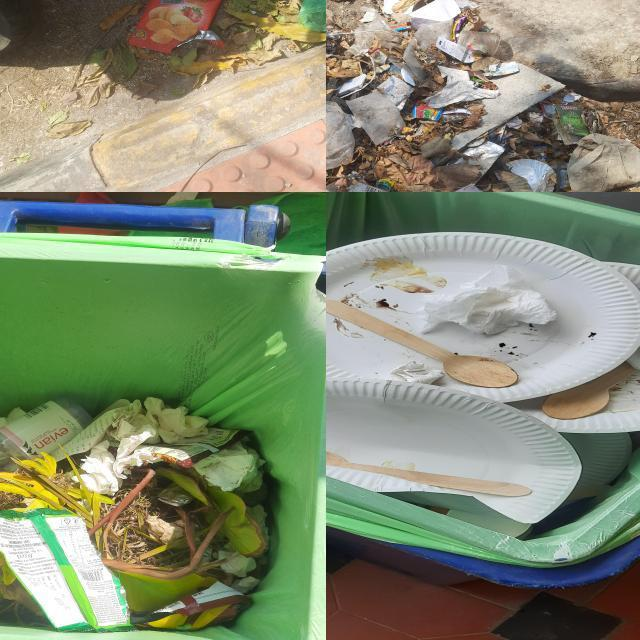Background: (0, 0, 326, 172)
Cig_pack: (339, 74, 366, 96)
Disposable: (326, 232, 640, 402), (326, 378, 580, 524), (510, 371, 640, 433), (457, 30, 501, 56)
Garbage: (326, 232, 640, 537), (0, 397, 269, 632), (326, 0, 640, 192)
Metal: (157, 483, 193, 506)
Plastic: (376, 179, 394, 191)
Plastic_Bag: (403, 19, 454, 84), (348, 90, 405, 146), (326, 103, 355, 170), (348, 15, 391, 55), (455, 0, 479, 8), (360, 7, 376, 13)
Plastic_bottle: (0, 397, 93, 471)
Plastic_wraper: (0, 509, 132, 632), (130, 582, 253, 630), (128, 0, 225, 54), (141, 428, 249, 467), (446, 141, 504, 182), (554, 105, 588, 136), (412, 105, 441, 121), (369, 48, 387, 65), (538, 100, 556, 115), (533, 146, 547, 162), (109, 439, 120, 455), (391, 23, 410, 31)
